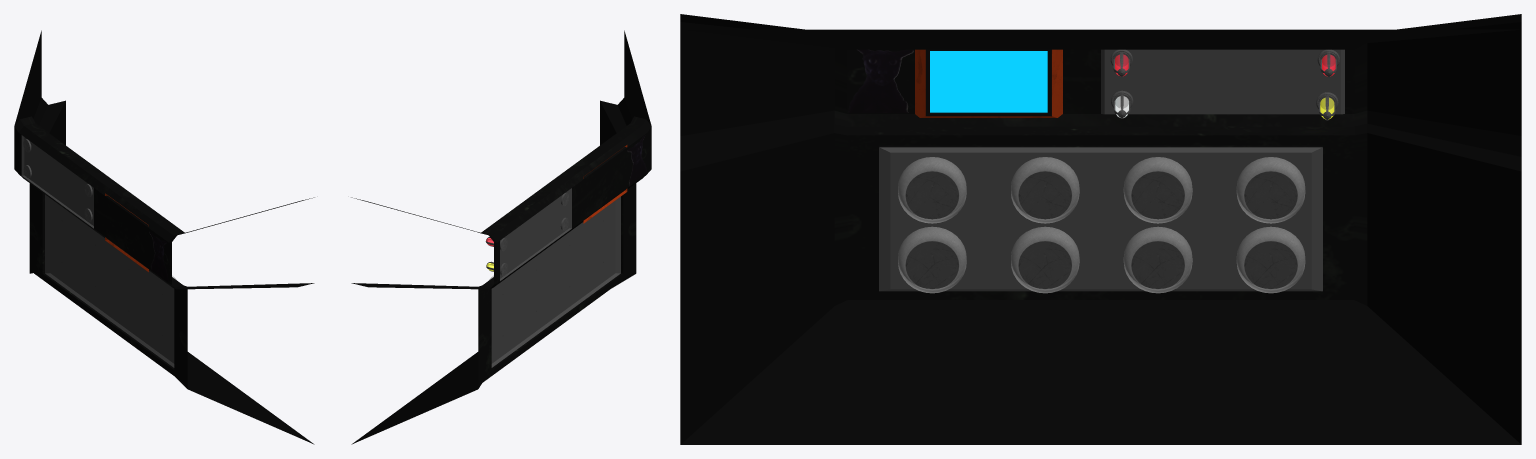
File: Cocpit.glb
3 renders of one model, left to right at view 1: azimuth 30°, elevation 25°; view 2: azimuth 150°, elevation 25°; view 3: azimuth 270°, elevation 25°, orthographic. The views are drawn at different scales.
Visible parts, largest first — view 1: Dashboard; view 2: Dashboard; view 3: Dashboard, Circle, Screen.
Boxes of the visible parts, x1,y1,x2,y2 form: Dashboard: [14, 30, 314, 444]; Dashboard: [351, 30, 651, 444]; Dashboard: [680, 14, 1521, 444]; Circle: [898, 157, 1305, 293]; Screen: [915, 49, 1062, 117].
Size of the model in its own units: 2.07 by 4.86 by 8.87.
11 materials, 9 textured.
